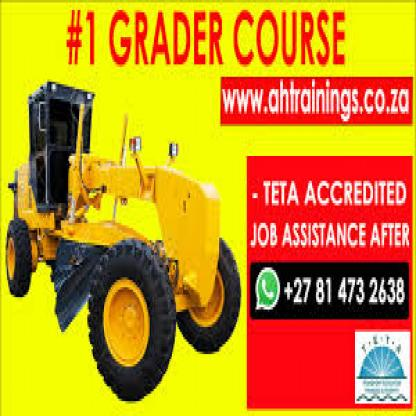bull_dozer/loader/grader: (6, 82, 242, 401)
